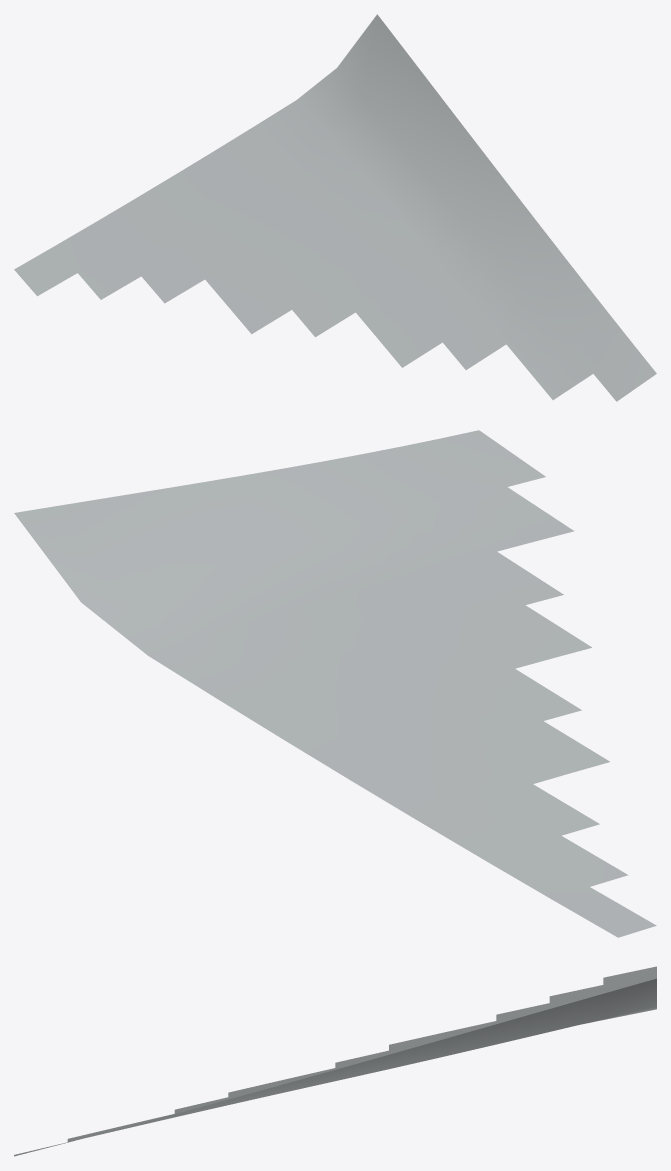
File: alpine-11-10.glb
The picture shows the model from 3 angles, top to bottom: view 1: azimuth 30°, elevation 25°; view 2: azimuth 150°, elevation 25°; view 3: azimuth 270°, elevation 25°; orthographic projection. The views are drawn at different scales.
Visible parts, largest first — view 1: alpine-11-10; view 2: alpine-11-10; view 3: alpine-11-10.
Boxes of the visible parts, box(x1,y1,x2,y2) form: alpine-11-10: box(14, 14, 656, 401); alpine-11-10: box(14, 430, 656, 937); alpine-11-10: box(14, 966, 656, 1156).
Size of the model in its own units: 72 by 33.88 by 96.
1 material, 1 textured.
